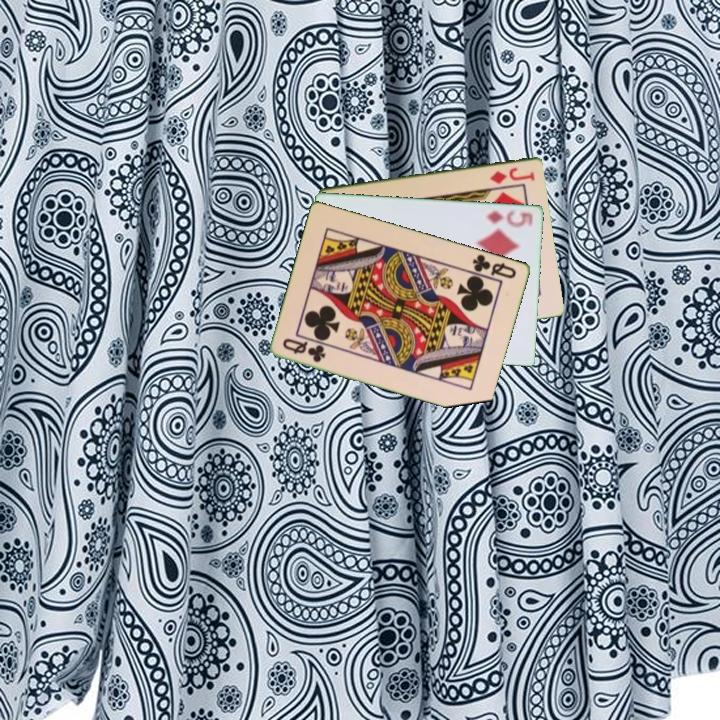5d: (483, 206, 536, 230)
Jd: (487, 163, 538, 187)
Qc: (469, 250, 520, 281), (279, 334, 329, 365)
